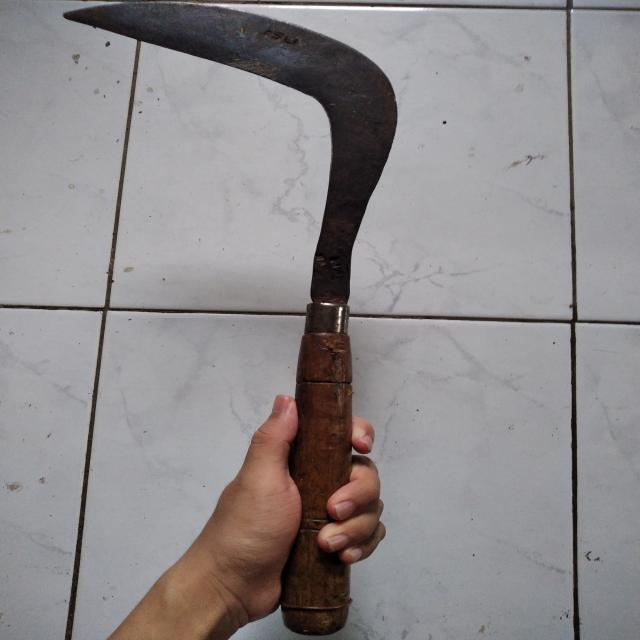Celurit: (65, 3, 403, 637)
